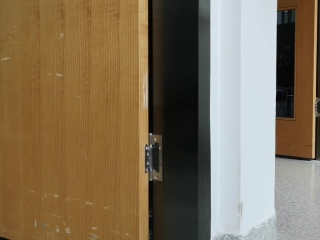room: (1, 1, 213, 240), (273, 1, 320, 168)
